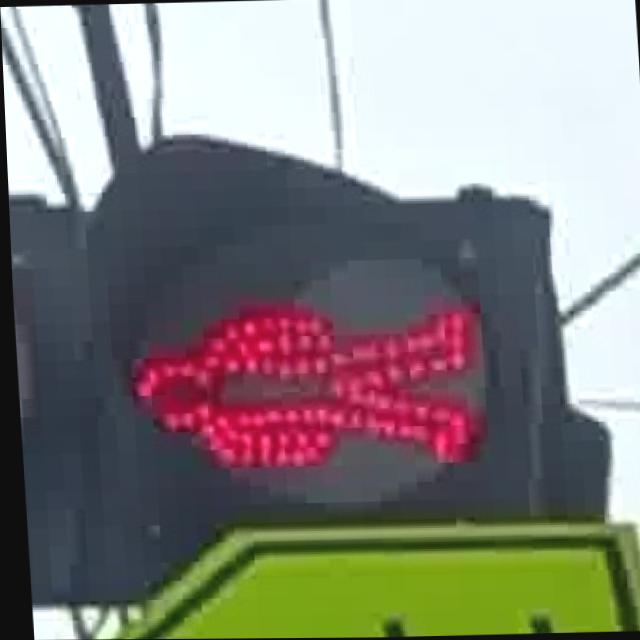red_light: (103, 266, 502, 486)
